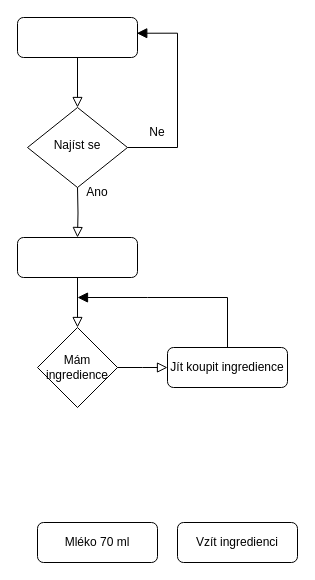
Some shapes in this 315 by 580 pixel diagram are drawn without their labels. Each missing label, with the centre of its shape:
"Mám hlad" belongs at pixel 77 37.
"Udělat si Francouzský toustík" belongs at pixel 77 257.
